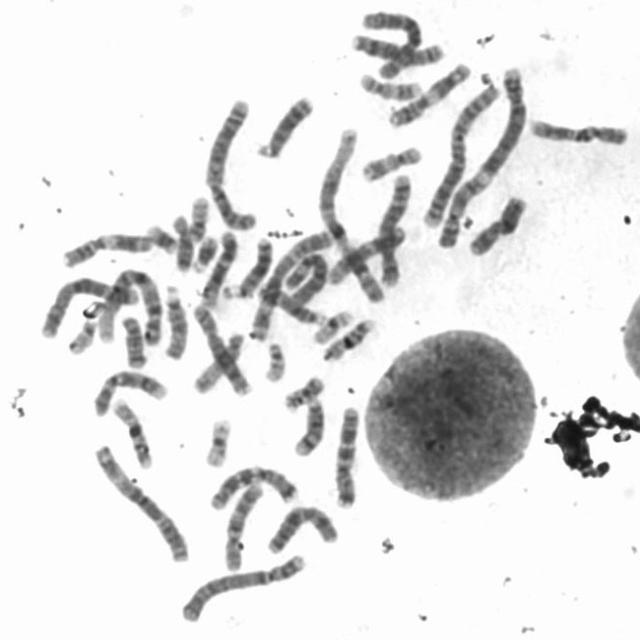A1: (313, 122, 388, 303), (96, 262, 166, 346)
A2: (417, 79, 502, 230), (201, 93, 262, 232)
A3: (89, 438, 193, 564), (245, 224, 335, 344)
B4: (176, 548, 310, 624), (468, 62, 528, 182)
B5: (34, 271, 143, 341), (373, 168, 416, 290)
C10: (218, 476, 265, 573), (524, 111, 631, 148)
C11: (383, 56, 474, 128), (57, 226, 158, 268)
C12: (324, 220, 410, 286), (197, 226, 239, 308)
C6: (358, 6, 428, 78), (280, 247, 330, 307)
C7: (205, 459, 302, 511), (330, 400, 363, 511)
C8: (189, 299, 254, 397), (346, 28, 447, 68)
C9: (434, 167, 492, 251), (89, 364, 171, 417)
D13: (251, 89, 316, 160), (220, 231, 274, 301)
D14: (252, 279, 329, 327), (288, 392, 328, 459)
D15: (188, 327, 247, 396), (159, 279, 191, 362)
E16: (108, 392, 156, 469), (318, 312, 378, 363)
E17: (356, 138, 426, 184), (354, 67, 424, 101)
E18: (116, 309, 150, 370), (168, 210, 195, 272)
F19: (308, 304, 356, 346), (199, 413, 234, 469)
F20: (279, 370, 327, 412), (183, 190, 212, 243)
G21: (188, 229, 222, 274), (143, 218, 180, 256)
G22: (62, 314, 98, 356), (259, 336, 288, 384)
X: (263, 499, 343, 556), (464, 189, 530, 258)
